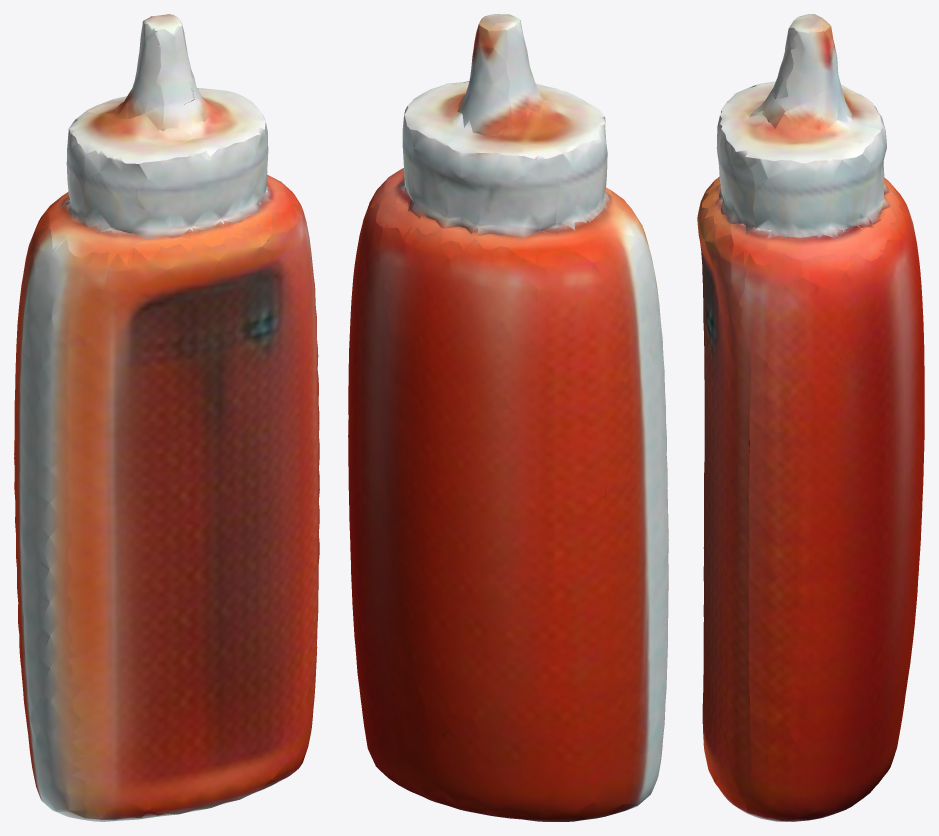
File: ketchup_bottle.glb
3 renders of one model, left to right at view 1: azimuth 30°, elevation 25°; view 2: azimuth 150°, elevation 25°; view 3: azimuth 270°, elevation 25°, orthographic. The views are drawn at different scales.
Visible parts, largest first — view 1: world; view 2: world; view 3: world.
Boxes of the visible parts, <box> form: world: <box>14,14,319,821</box>; world: <box>348,14,668,821</box>; world: <box>697,14,924,821</box>.
Bounding box in the file's own units: 0.3969 × 1.01 × 0.2756.
Materials: 1 (1 with a texture image).
